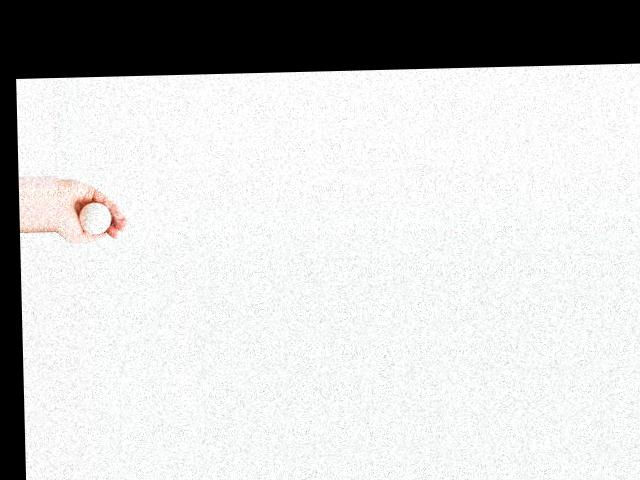egg: (79, 202, 112, 233)
